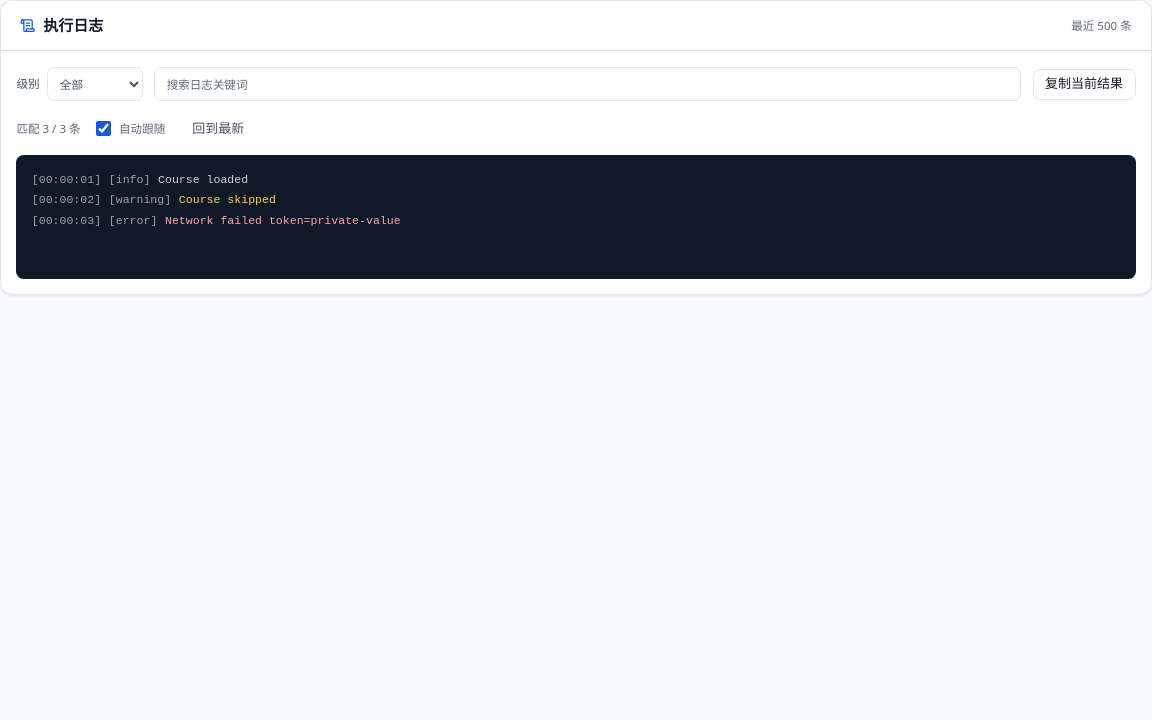
Test case: offers a manual copy fallback when clipboard is denied
The image size is (1152, 720).
Select "仅错误" in the dropdown named "日志级别" at x=95, y=84, box [47,67,143,101]
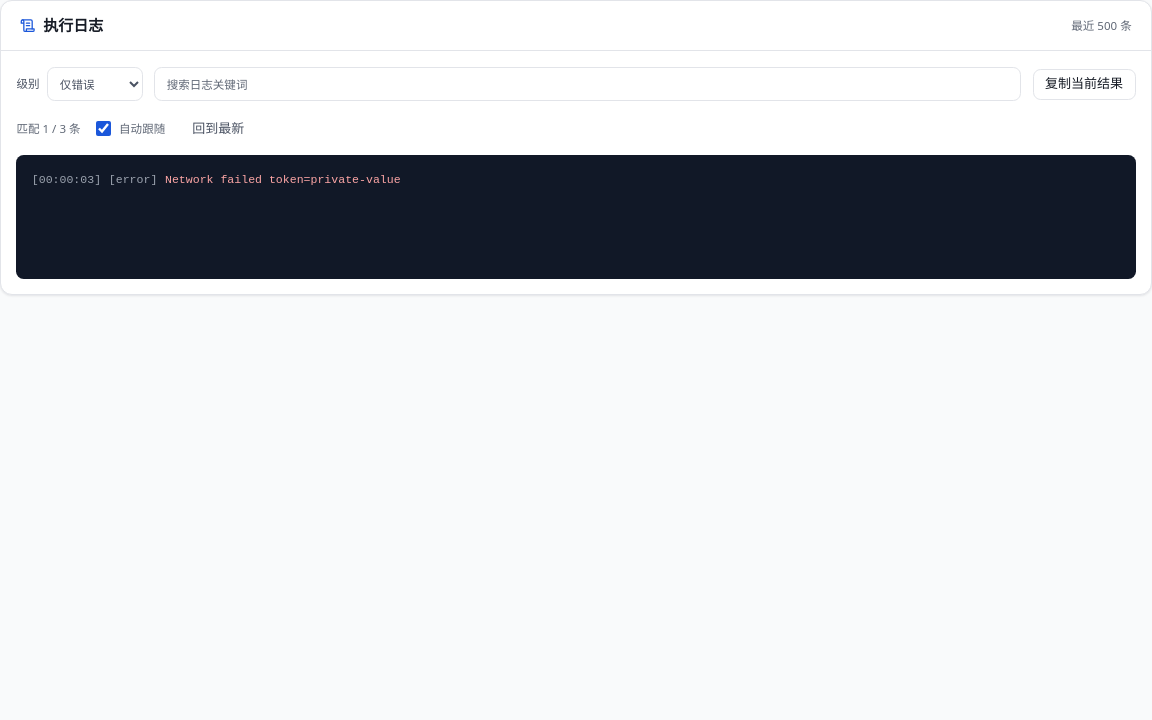
Click the button "复制当前结果" at x=1084, y=84, box [1032,69,1136,100]
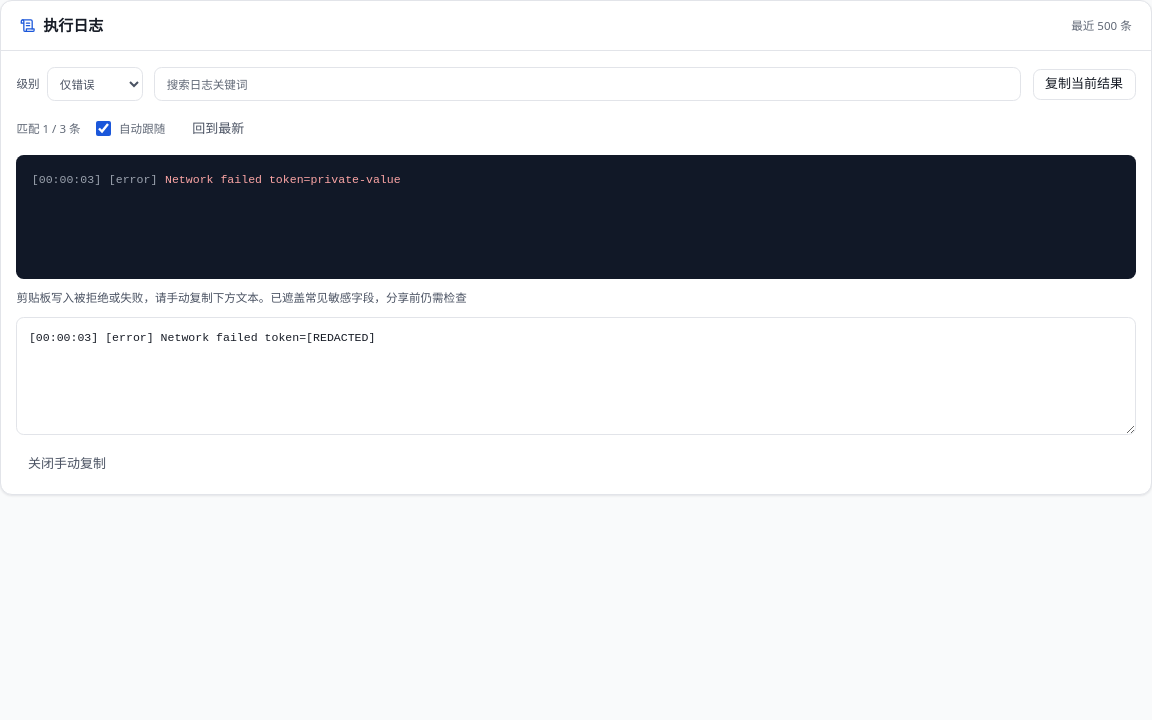
Expected: the text "剪贴板写入被拒绝或失败，请手动复制下方文本。已遮盖常见敏感字段，分享前仍需检查" is shown, [16,290,467,305]
Click the button "关闭手动复制" at x=67, y=464, box [16,448,118,479]
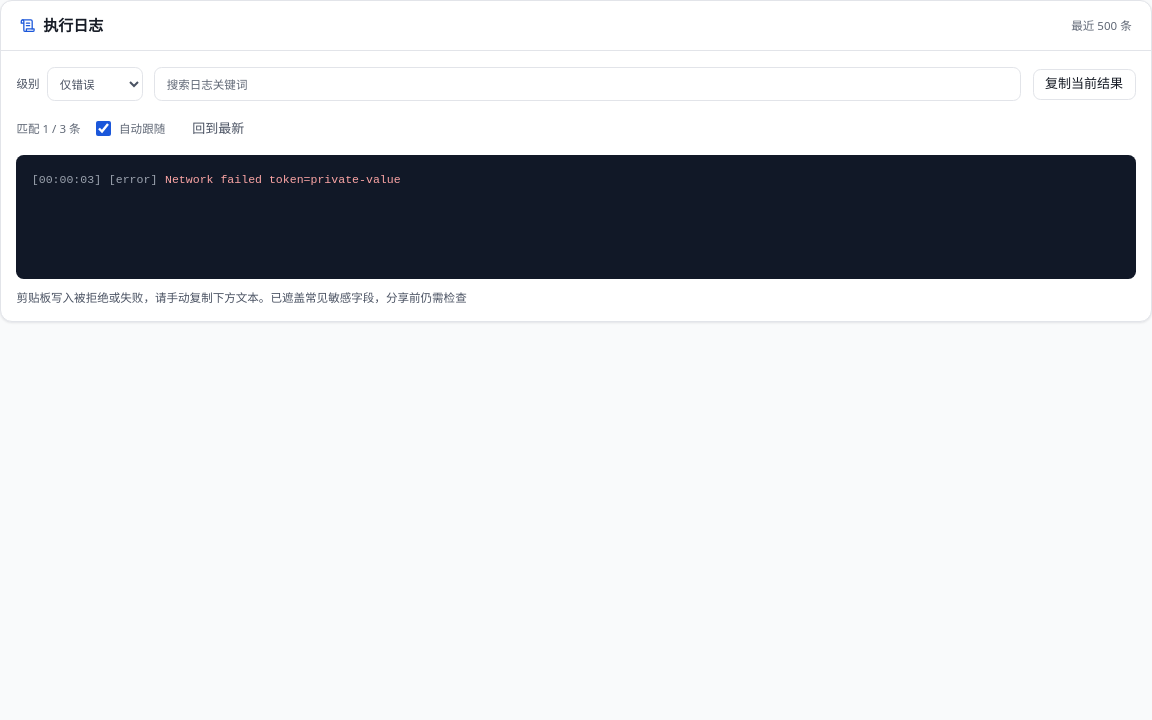
Expected: the text box labelled "手动复制日志" is gone
